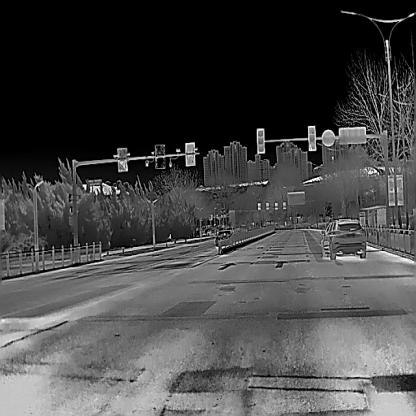car: (319, 215, 367, 260), (213, 228, 237, 246)
